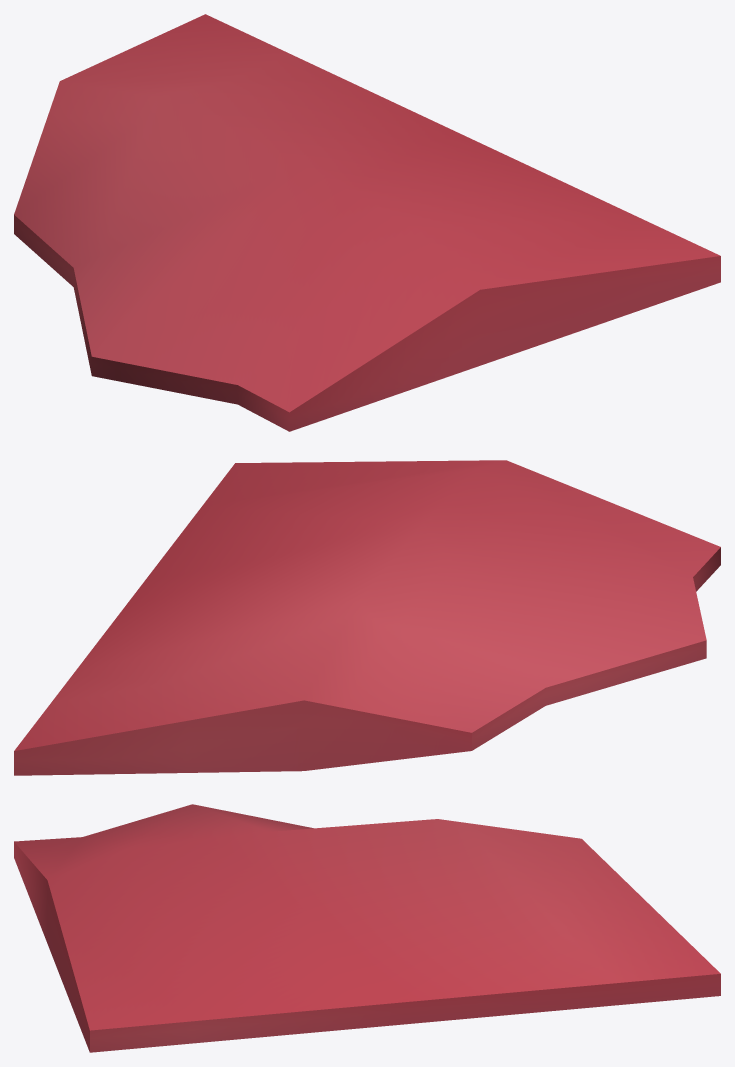
The model's file is SM_牦牛肉.fbx.
3 views of the same model, one above another, from view 1: azimuth 30°, elevation 25°; view 2: azimuth 150°, elevation 25°; view 3: azimuth 270°, elevation 25° (orthographic). The views are drawn at different scales.
Parts seen in each view (by area): view 1: SM_牦牛肉; view 2: SM_牦牛肉; view 3: SM_牦牛肉.
Part boxes in pixels (<box>): SM_牦牛肉: <box>14,14,720,431</box>; SM_牦牛肉: <box>14,460,720,775</box>; SM_牦牛肉: <box>14,804,720,1052</box>.
Bounding box in the file's own units: 5.11 × 0.9743 × 6.58.
